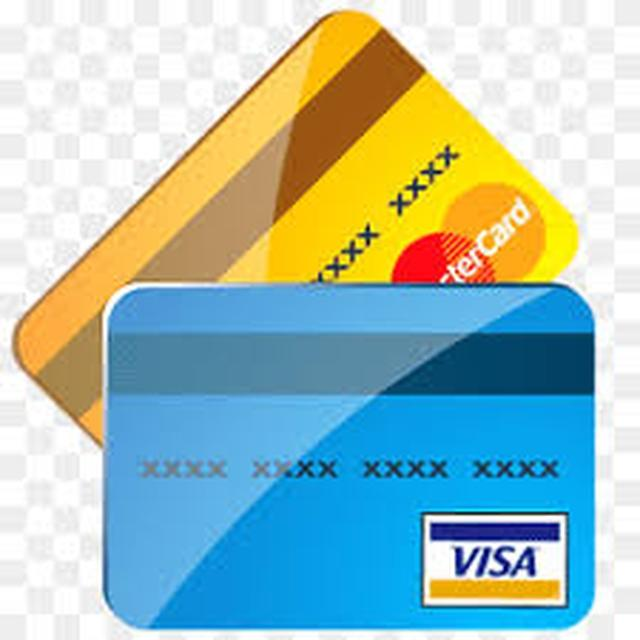card: (71, 230, 623, 640)
